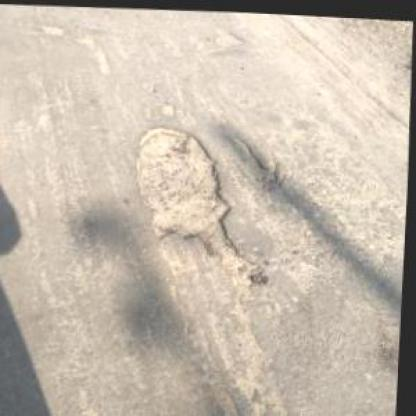pothole: (127, 118, 278, 281), (230, 131, 286, 188), (72, 30, 117, 75), (209, 24, 247, 47), (30, 21, 66, 34), (158, 99, 179, 115)
